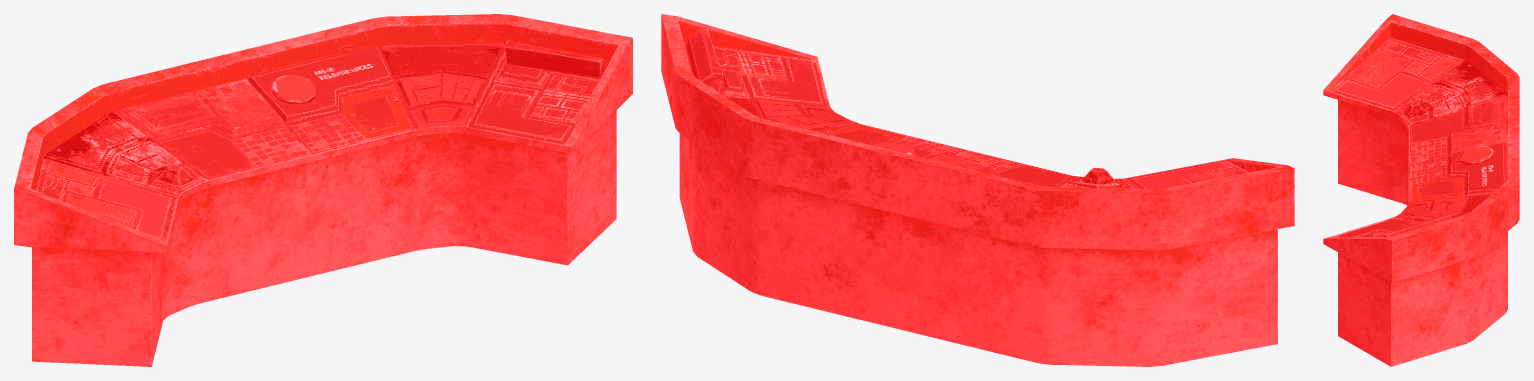
File: control_panel.gltf
3 renders of one model, left to right at view 1: azimuth 30°, elevation 25°; view 2: azimuth 150°, elevation 25°; view 3: azimuth 270°, elevation 25°, orthographic. The views are drawn at different scales.
Visible parts, largest first — view 1: LP, buttonLP; view 2: LP; view 3: LP, buttonLP.
Boxes of the visible parts, box(x1,y1,x2,y2) form: LP: box(14, 14, 632, 366); buttonLP: box(272, 74, 315, 104); LP: box(661, 14, 1294, 366); LP: box(1323, 14, 1519, 366); buttonLP: box(1461, 146, 1493, 164).
Bounding box in the file's own units: 5.93 × 1.62 × 2.17.
Materials: 1 (1 with a texture image).
